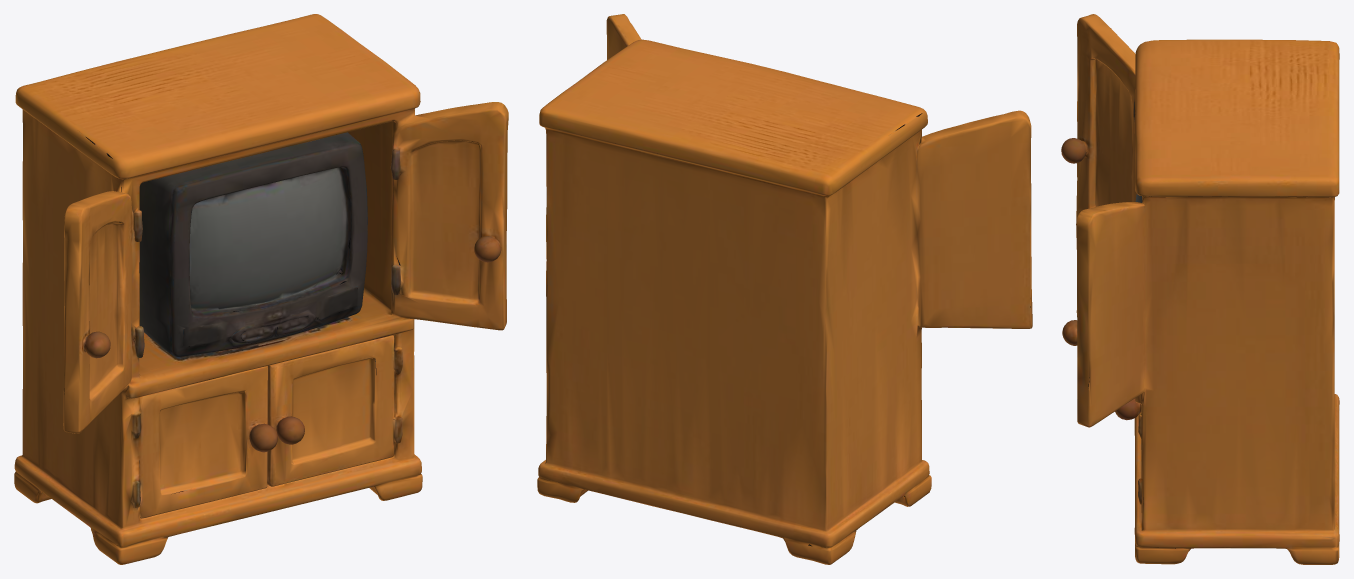
File: tv_armoire.glb
3 renders of one model, left to right at view 1: azimuth 30°, elevation 25°; view 2: azimuth 150°, elevation 25°; view 3: azimuth 270°, elevation 25°, orthographic. The views are drawn at different scales.
Visible parts, largest first — view 1: tv_armoire; view 2: tv_armoire; view 3: tv_armoire.
Boxes of the visible parts, box(x1,y1,x2,y2) form: tv_armoire: box(14, 14, 508, 564); tv_armoire: box(537, 14, 1032, 564); tv_armoire: box(1061, 14, 1339, 564).
Size of the model in its own units: 2 by 1.75 by 1.14.
1 material, 1 textured.
